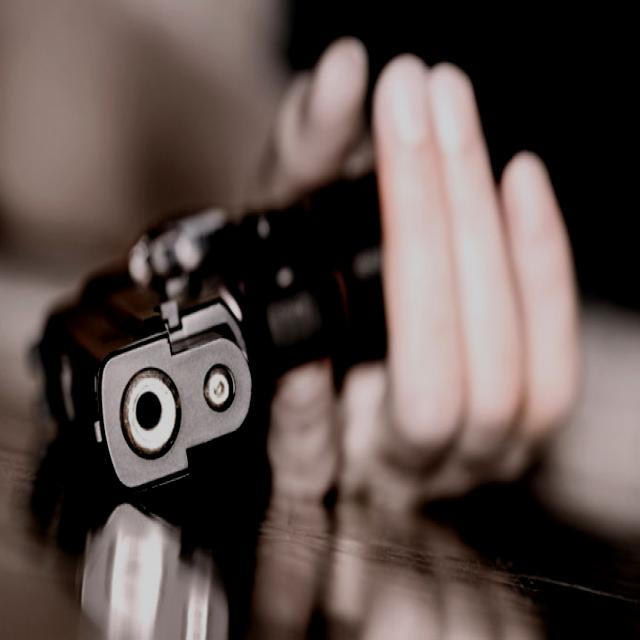pistol: (39, 173, 457, 494)
